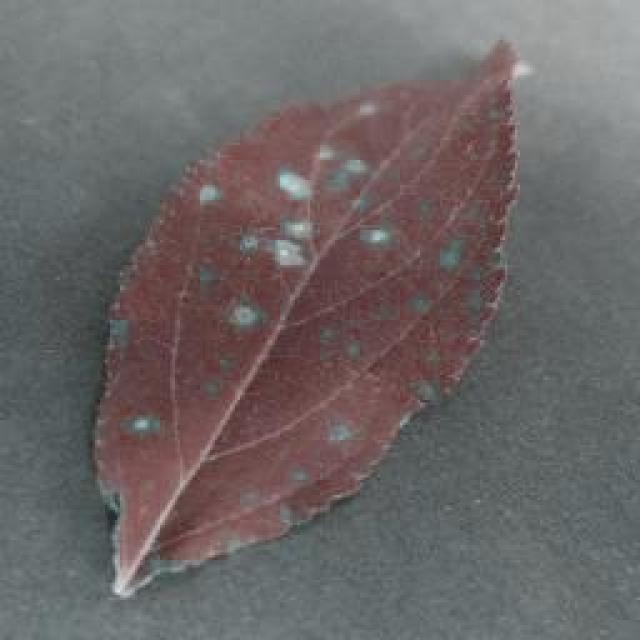apple healthy: (88, 35, 522, 597)
